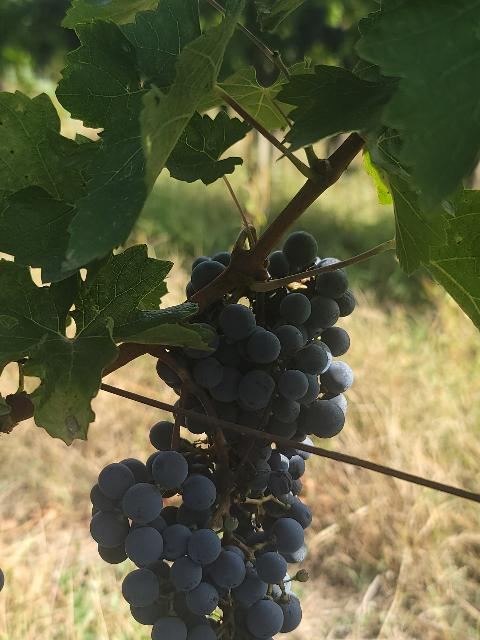grapes: (90, 450, 311, 640), (170, 270, 355, 441), (248, 445, 304, 499)
